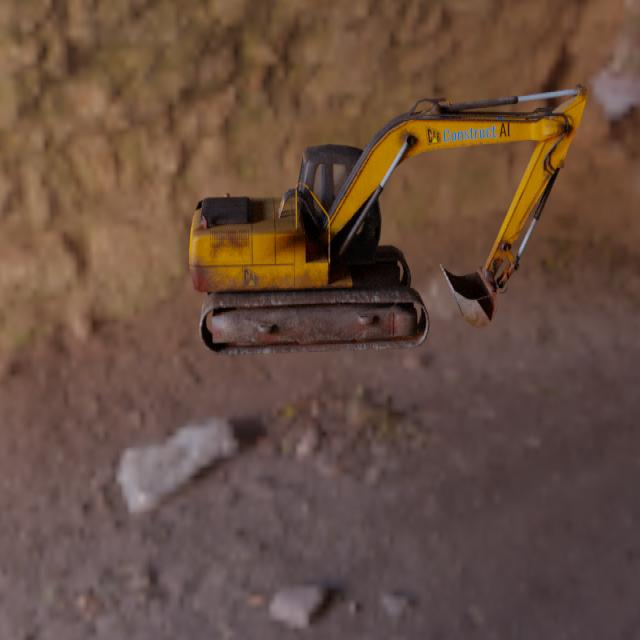excavator: (188, 83, 587, 354)
